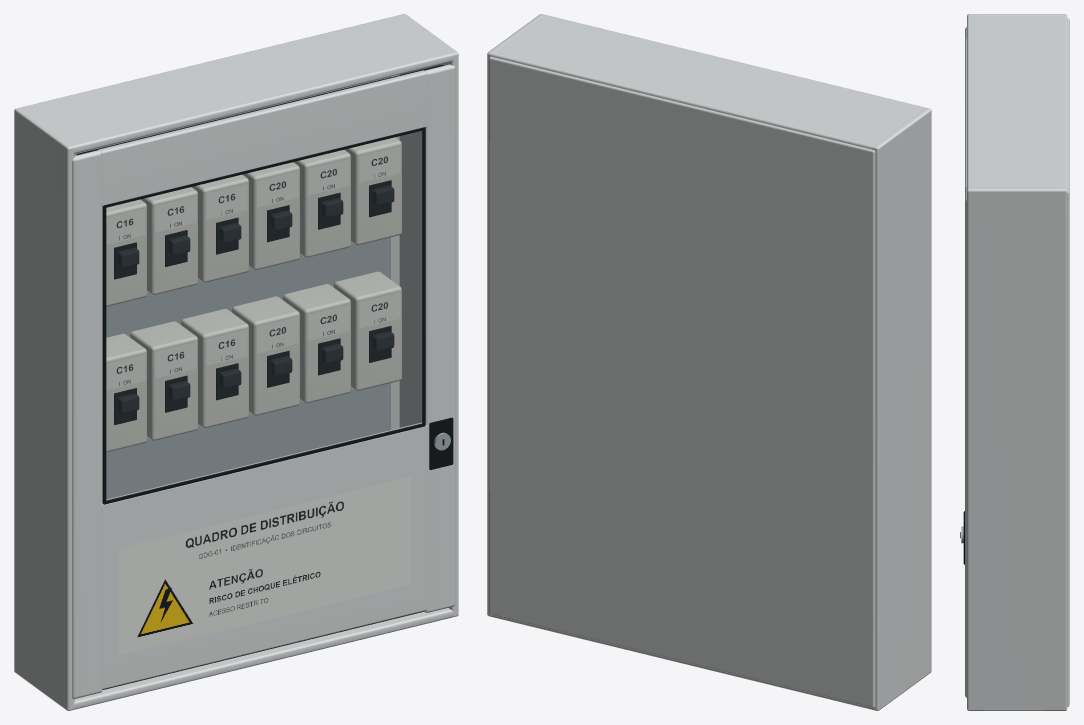
File: quadro_de_luz_realista.glb
The picture shows the model from 3 angles, left to right: view 1: azimuth 30°, elevation 25°; view 2: azimuth 150°, elevation 25°; view 3: azimuth 270°, elevation 25°; orthographic projection. The views are drawn at different scales.
Visible parts, largest first — view 1: Janela de inspecao, Lateral da caixa, Identificacao frontal, Parte inferior da porta, Placa interna de montagem, Tampa da caixa.001, Parte superior da porta, Montante da porta, Montante da porta.001, Lateral da caixa.001, Tampa da caixa, Disjuntor modular.001 (+29 smaller); view 2: Fundo do quadro, Lateral da caixa, Tampa da caixa.001, Lateral da caixa.001, Tampa da caixa; view 3: Lateral da caixa.001, Tampa da caixa.001, Fundo do quadro, Montante da porta.001, Parte superior da porta, Lateral da caixa.
Boxes of the visible parts, bbox=[...] form: Janela de inspecao: bbox=[107, 131, 421, 499]; Lateral da caixa: bbox=[14, 107, 74, 710]; Identificacao frontal: bbox=[119, 477, 410, 655]; Parte inferior da porta: bbox=[101, 422, 427, 689]; Placa interna de montagem: bbox=[74, 76, 390, 499]; Tampa da caixa.001: bbox=[20, 15, 453, 153]; Parte superior da porta: bbox=[98, 70, 427, 206]; Montante da porta: bbox=[72, 150, 102, 698]; Montante da porta.001: bbox=[424, 64, 455, 612]; Lateral da caixa.001: bbox=[399, 14, 458, 616]; Tampa da caixa: bbox=[73, 608, 453, 709]; Disjuntor modular.001: bbox=[130, 321, 197, 440]; Fundo do quadro: bbox=[489, 56, 875, 707]; Lateral da caixa: bbox=[872, 107, 931, 710]; Tampa da caixa.001: bbox=[492, 15, 925, 149]; Lateral da caixa.001: bbox=[487, 14, 545, 616]; Tampa da caixa: bbox=[492, 615, 872, 709]; Lateral da caixa.001: bbox=[967, 187, 1067, 710]; Tampa da caixa.001: bbox=[967, 16, 1067, 188]; Fundo do quadro: bbox=[1067, 18, 1069, 706]; Montante da porta.001: bbox=[965, 186, 966, 697]; Parte superior da porta: bbox=[965, 39, 966, 187]; Lateral da caixa: bbox=[967, 14, 1067, 16].
Size of the model in its own units: 0.4 by 0.55 by 0.1042.
8 materials, 2 textured.
